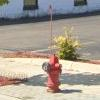a fire hydrant: (43, 58, 63, 93)
